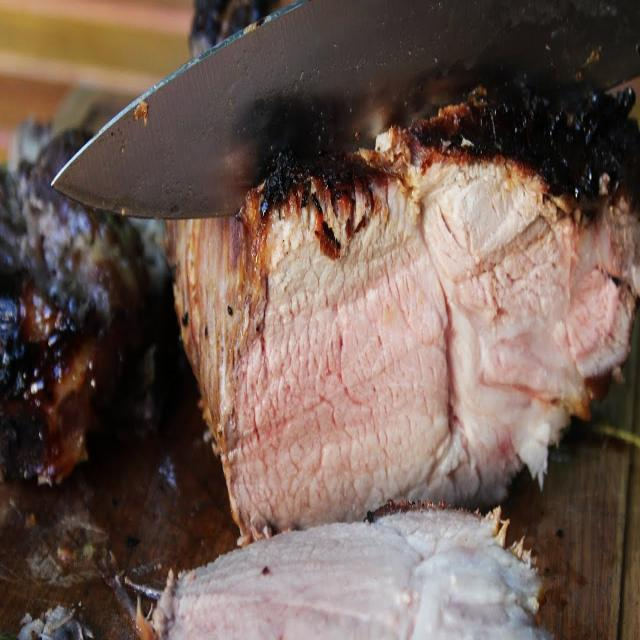carne de cerdo: (185, 87, 637, 541)
